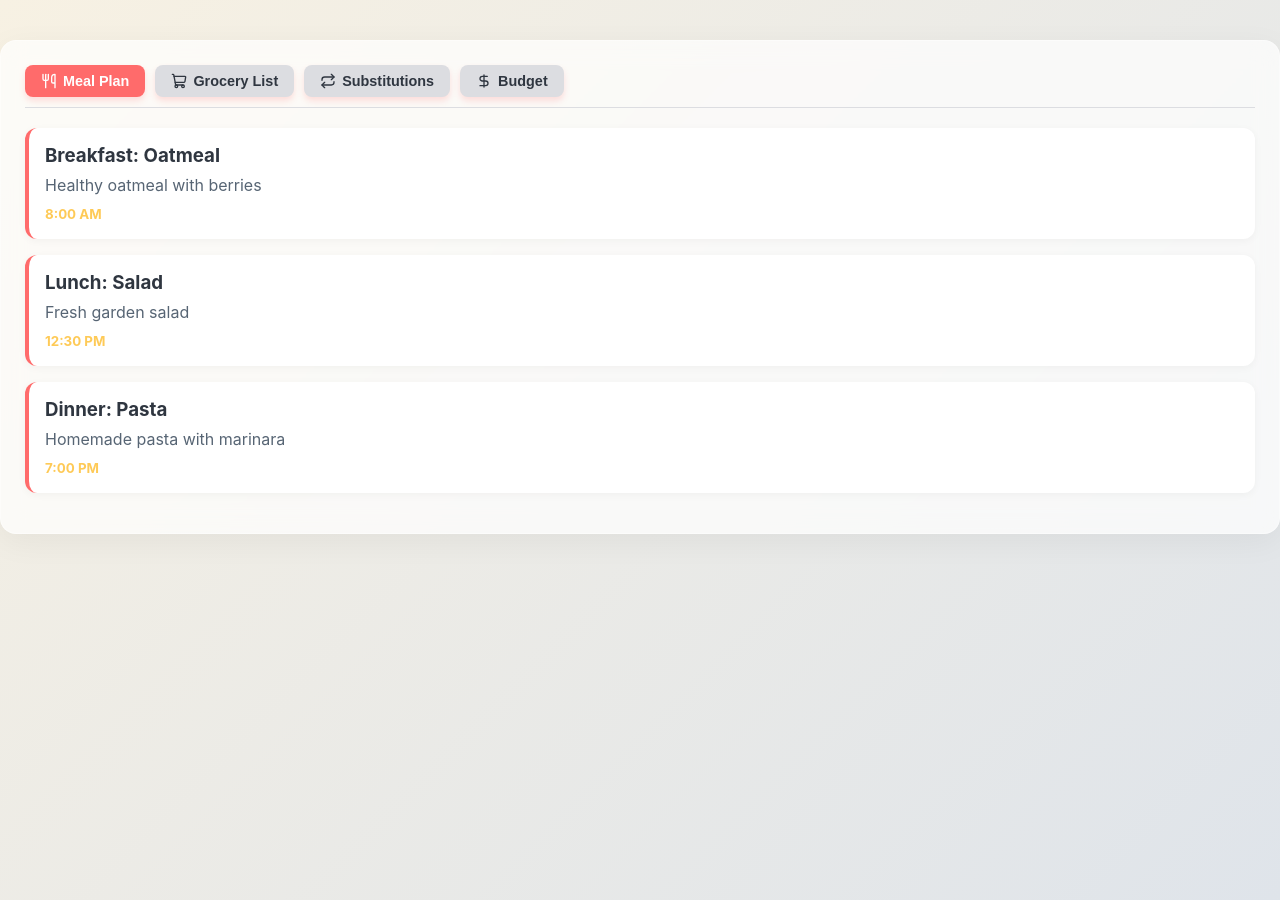
Test: MealPlanResults › switches to grocery list tab on click
Click the tab "Grocery List".
click(225, 81)  # box [155,65,294,97]
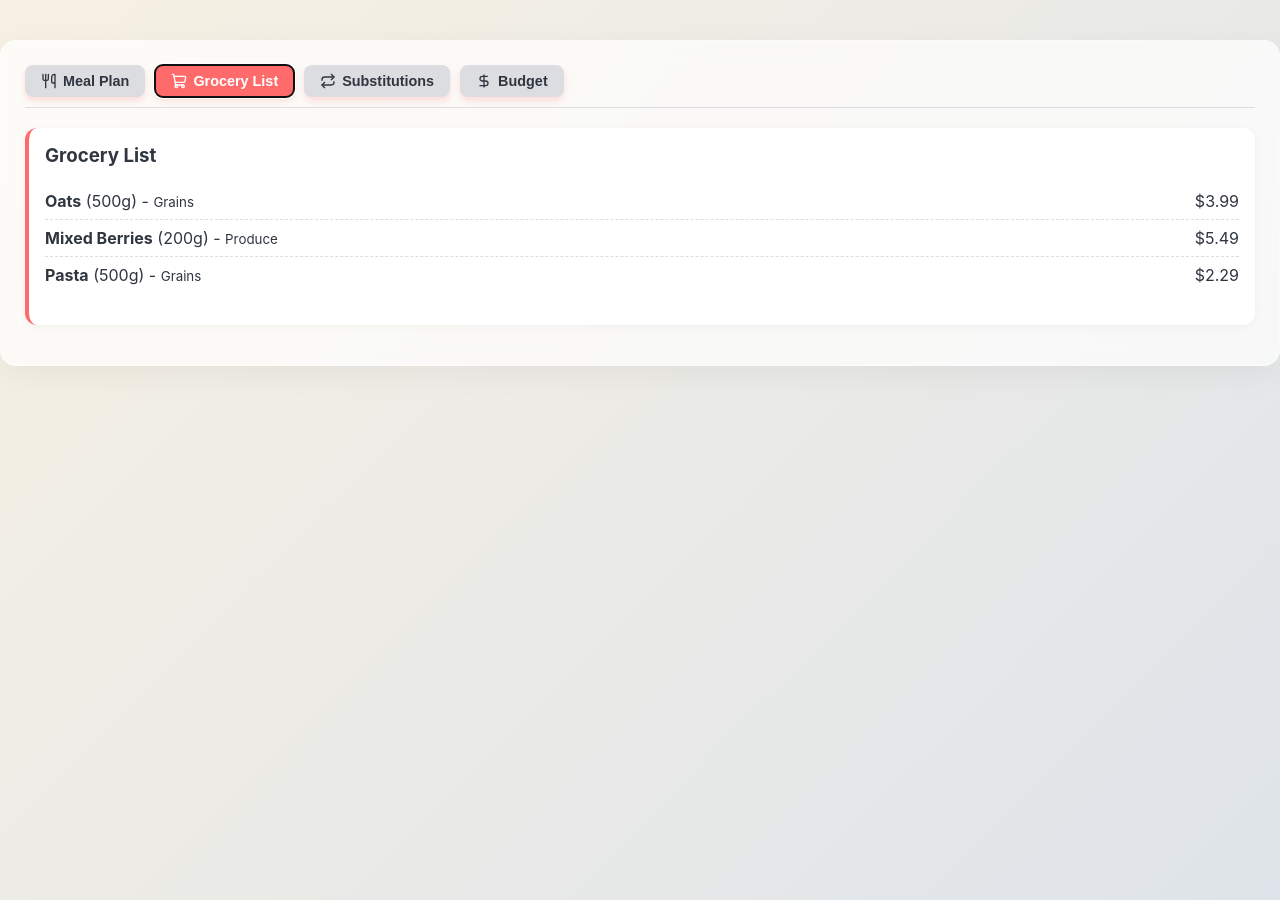
Result: the panel is shown at [25,128,1255,325]
Result: the text "Oats" is shown at [45,191,81,211]
Result: the text "Mixed Berries" is shown at [45,228,153,248]
